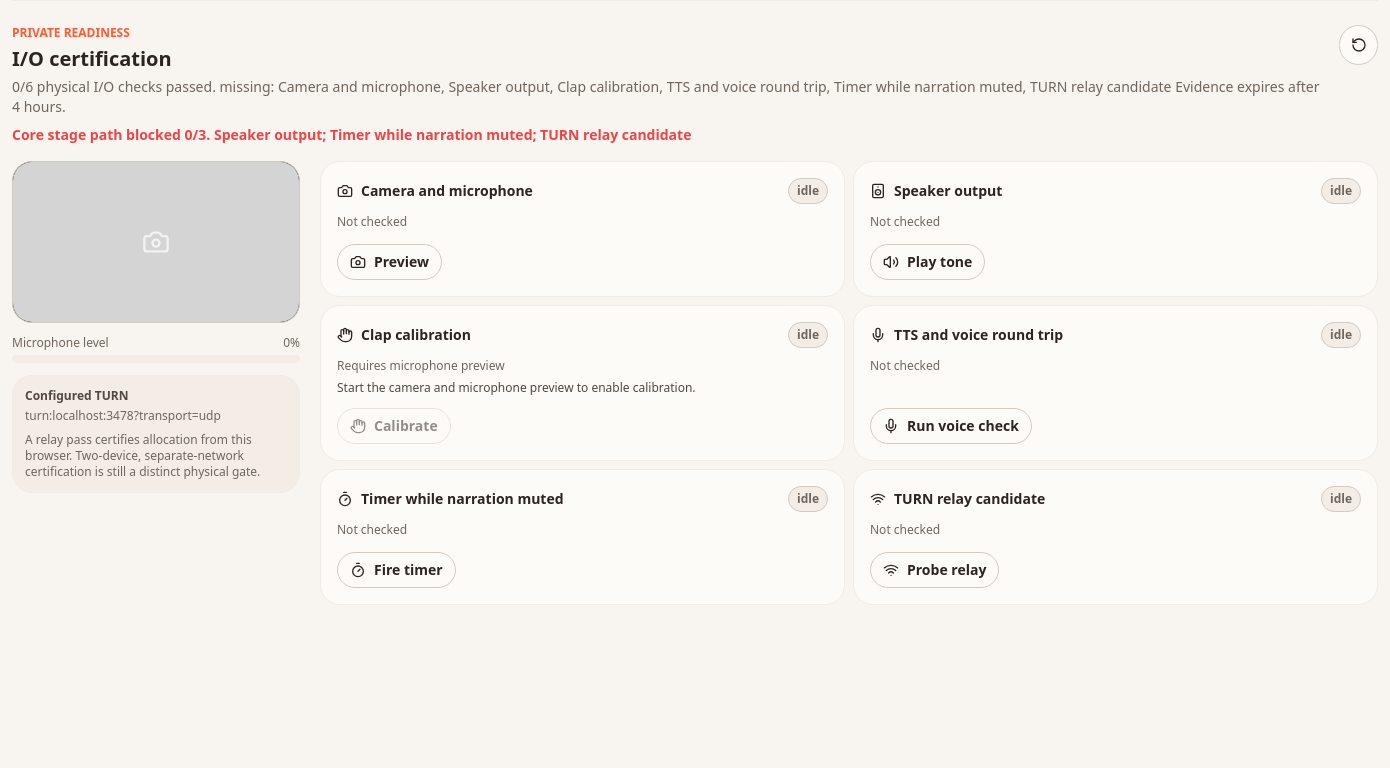
Test case: I/O readiness media preview lifecycle › releases acquired media if audio analysis setup fails
The width and height of the screenshot is (1390, 768).
Step 1. Click the button "Preview" → click(390, 262), box [337,244,442,280]
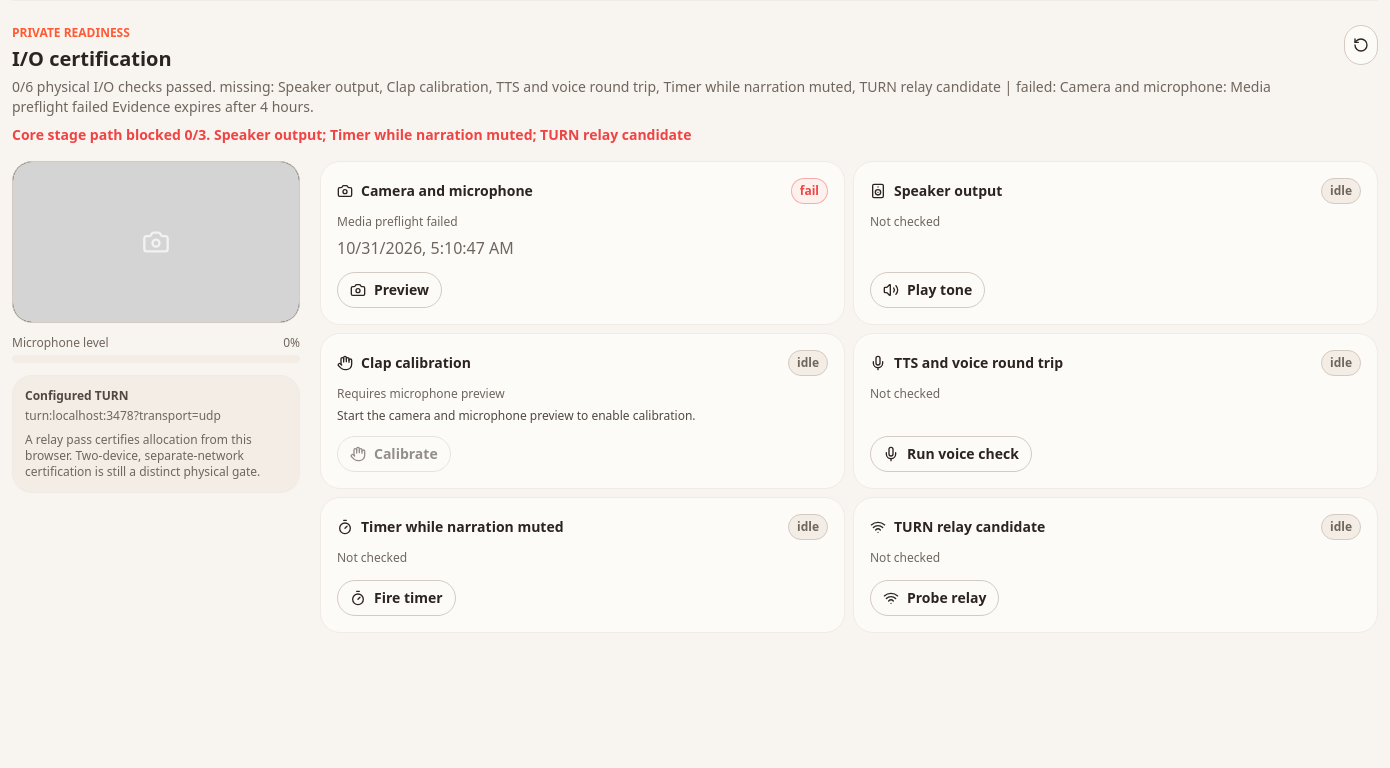
Now the text "Media preflight failed" is shown, box [337,213,458,230]
